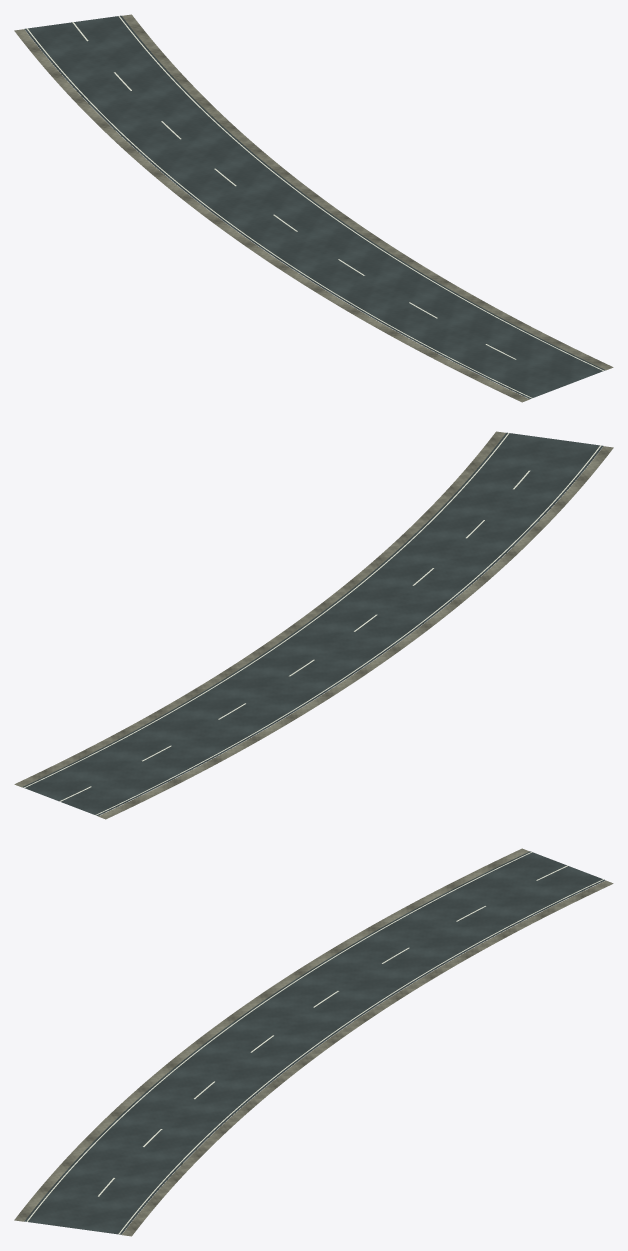
The model's file is road_mountain_curve_64m.glb.
The picture shows the model from 3 angles, top to bottom: view 1: azimuth 30°, elevation 25°; view 2: azimuth 150°, elevation 25°; view 3: azimuth 330°, elevation 25°; orthographic projection.
Visible parts, largest first — view 1: road_surface, static_gravel, static_road_marking; view 2: road_surface, static_gravel, static_road_marking; view 3: road_surface, static_gravel, static_road_marking.
Part boxes in pixels (bbox=[...]): road_surface: bbox=[24, 15, 605, 398]; static_gravel: bbox=[14, 14, 613, 402]; static_road_marking: bbox=[26, 16, 603, 398]; road_surface: bbox=[22, 432, 603, 815]; static_gravel: bbox=[14, 431, 613, 819]; static_road_marking: bbox=[24, 433, 601, 815]; road_surface: bbox=[24, 851, 605, 1234]; static_gravel: bbox=[14, 848, 613, 1236]; static_road_marking: bbox=[26, 852, 603, 1234].
Size of the model in its own units: 11.4 by 0.027 by 65.68.
Materials: 3 (2 with a texture image).
